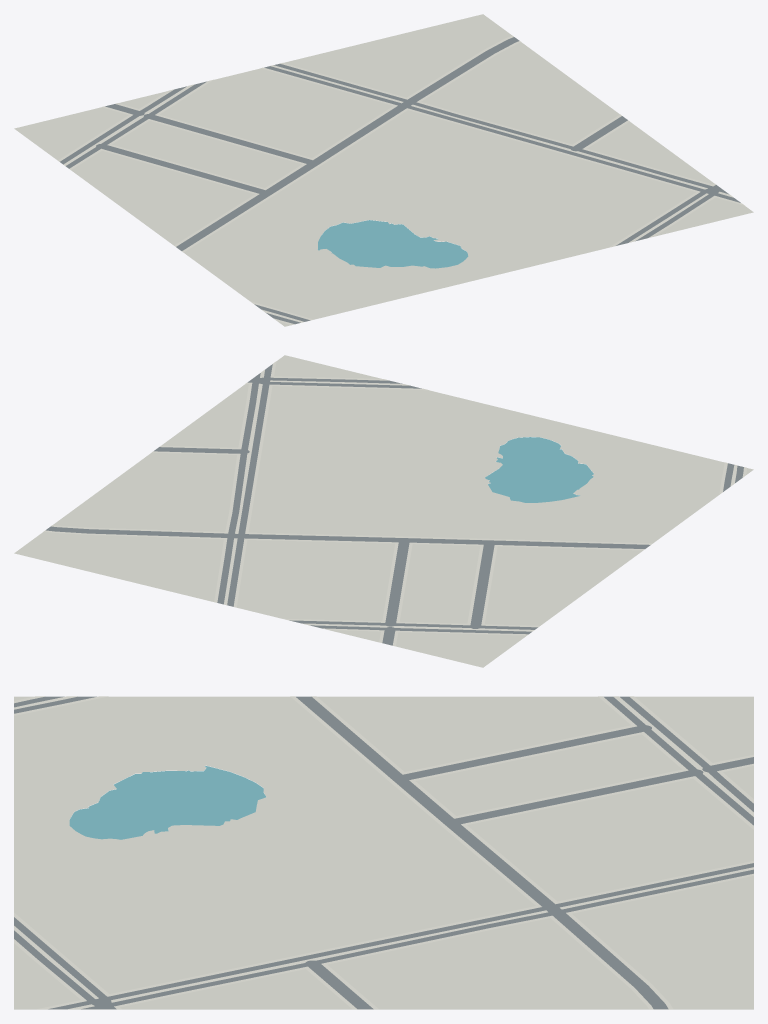
3 renders of one model, top to bottom at view 1: azimuth 30°, elevation 25°; view 2: azimuth 150°, elevation 25°; view 3: azimuth 270°, elevation 25°, orthographic. The views are drawn at different scales.
Visible parts, largest first — view 1: city; view 2: city; view 3: city.
Boxes of the visible parts, x1,y1,x2,y2 form: city: (14,14,753,326); city: (14,355,753,667); city: (14,696,753,1009).
Size of the model in its own units: 500 by 0.4 by 500.
